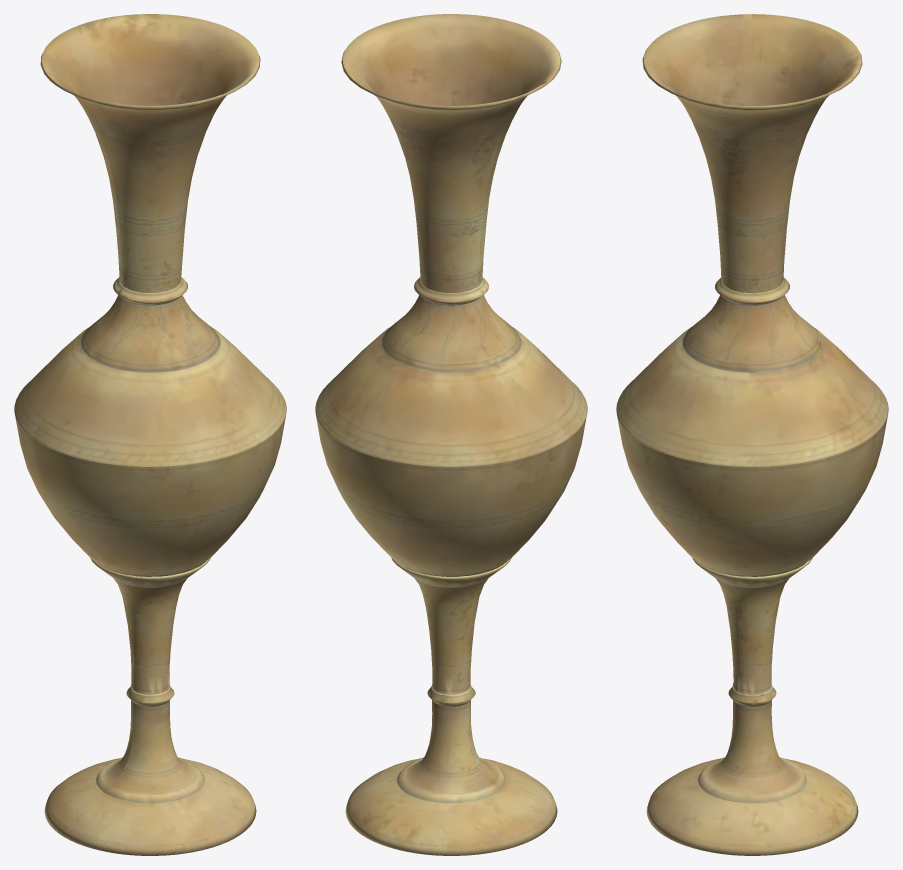
File: brass_vase_01.glb
3 views of the same model, side by side, from view 1: azimuth 30°, elevation 25°; view 2: azimuth 150°, elevation 25°; view 3: azimuth 270°, elevation 25° (orthographic).
Visible parts, largest first — view 1: brass_vase_01; view 2: brass_vase_01; view 3: brass_vase_01.
Part boxes in pixels (x1,y1,x2,y2): brass_vase_01: (14, 14, 286, 855); brass_vase_01: (315, 14, 587, 855); brass_vase_01: (616, 14, 888, 855).
Size of the model in its own units: 0.2276 by 0.6926 by 0.2276.
1 material, 1 textured.
